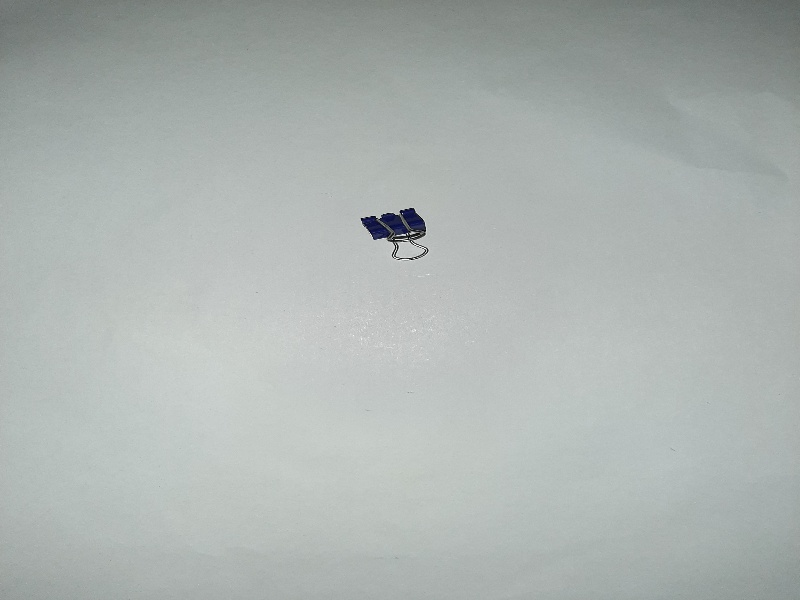Small Paperclip: (357, 202, 433, 265)
